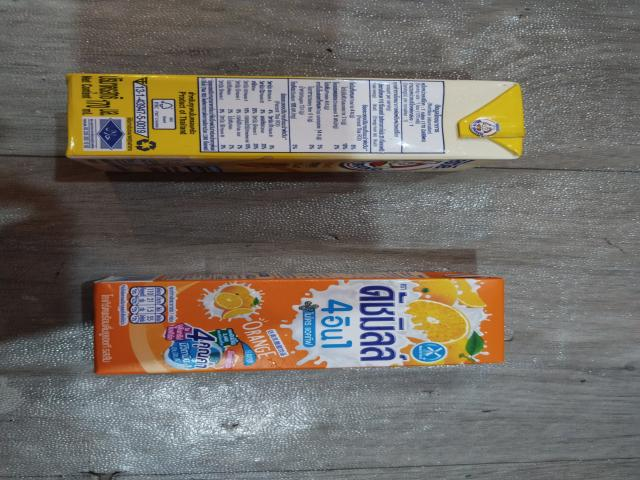drink_box: (57, 63, 530, 175), (84, 272, 508, 378)
